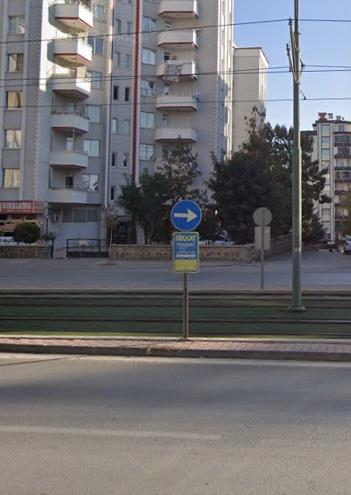turnright: (171, 201, 205, 230)
